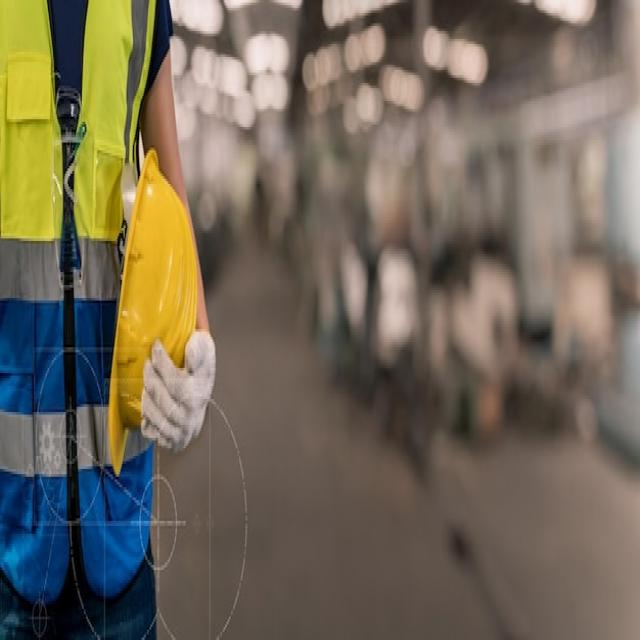Reflective-Jacket: (0, 5, 170, 547)
Safety-Helmet: (92, 139, 202, 491)
